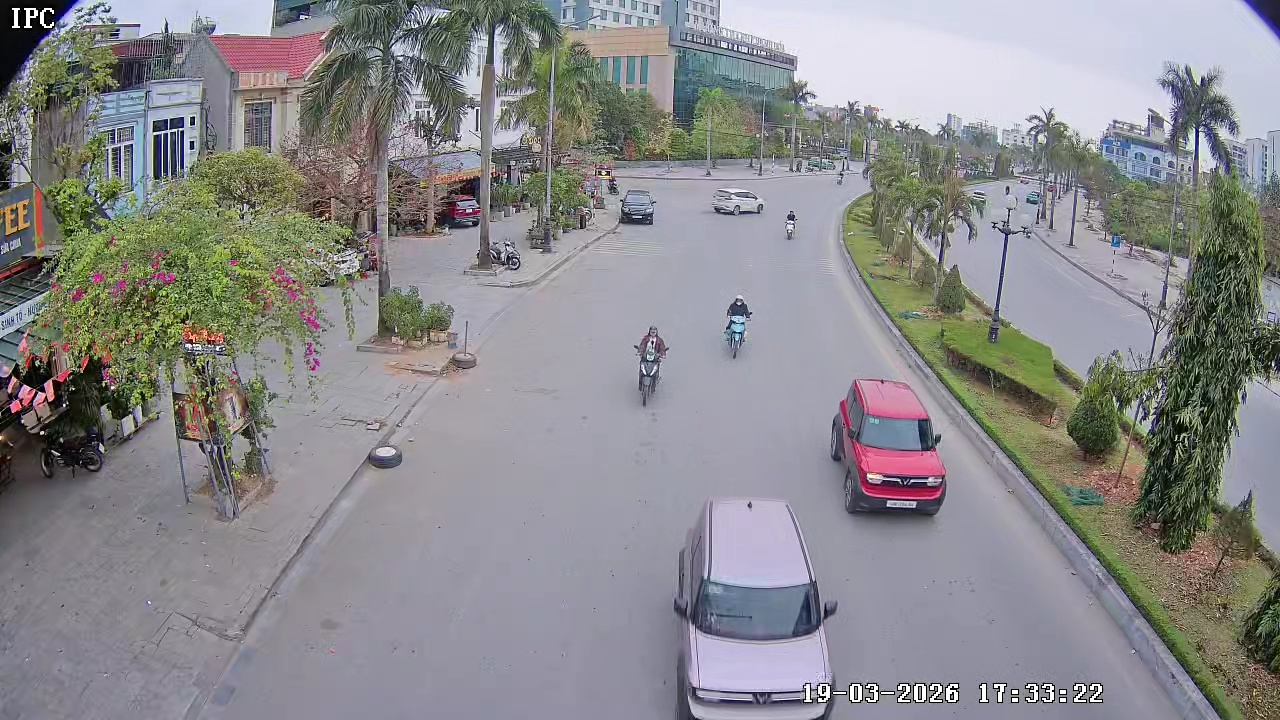car: (669, 494, 840, 719), (828, 377, 948, 515), (711, 185, 766, 217), (618, 188, 658, 224)
motorbike: (632, 323, 670, 408), (722, 292, 753, 359), (782, 207, 799, 242)
